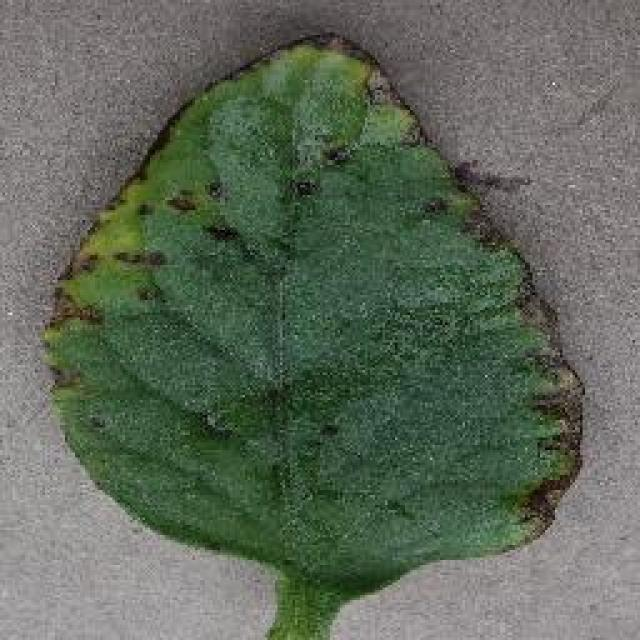bacterial spot: (44, 24, 587, 640)
